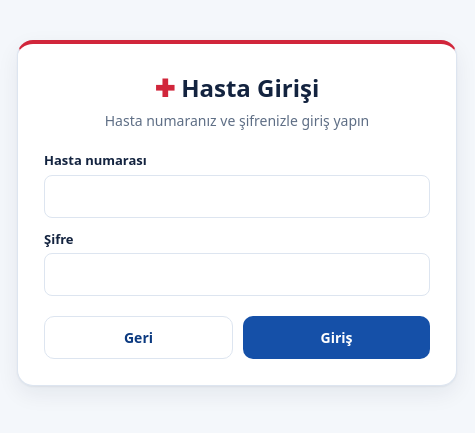
Scenario: patient login › tells the user to wait after too many failed attempts
Type "1421986987763" into the field labelled "Hasta numarası" at (237, 196), box [44,174,430,218]
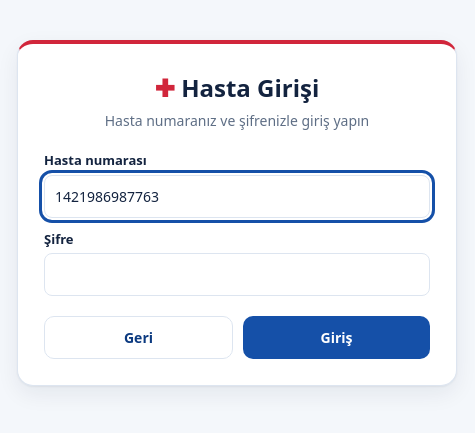
Type "demo1234" into the password field labelled "Şifre" at (237, 274), box [44,253,430,296]
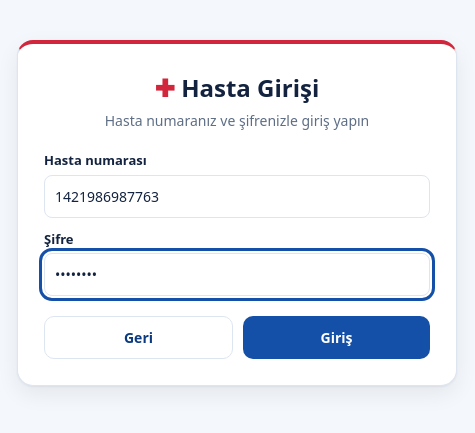
Click the button "Giriş" at (336, 338), box [243,316,430,359]
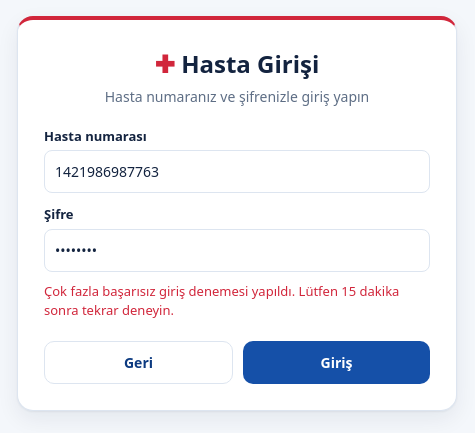
Expected: the message shows "Çok fazla başarısız giriş denemesi yapıldı. Lütfen 15 dakika sonra tekrar deneyin.", [44,282,399,319]
